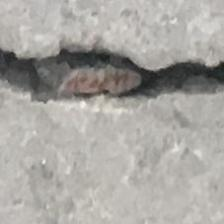Crack: (0, 30, 224, 118)
